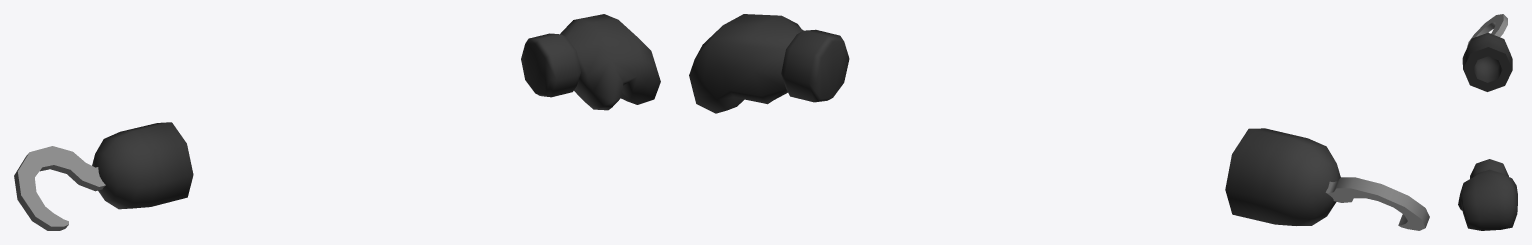
Rendered from Glove_7.fbx.
The picture shows the model from 3 angles, left to right: view 1: azimuth 30°, elevation 25°; view 2: azimuth 150°, elevation 25°; view 3: azimuth 270°, elevation 25°; orthographic projection. The views are drawn at different scales.
Visible parts, largest first — view 1: Glove_7; view 2: Glove_7; view 3: Glove_7.
Part boxes in pixels (x1=…): Glove_7: x1=14, y1=14, x2=660, y2=230; Glove_7: x1=689, y1=14, x2=1429, y2=230; Glove_7: x1=1458, y1=14, x2=1517, y2=230.
Bounding box in the file's own units: 153 × 20.16 × 21.27.
